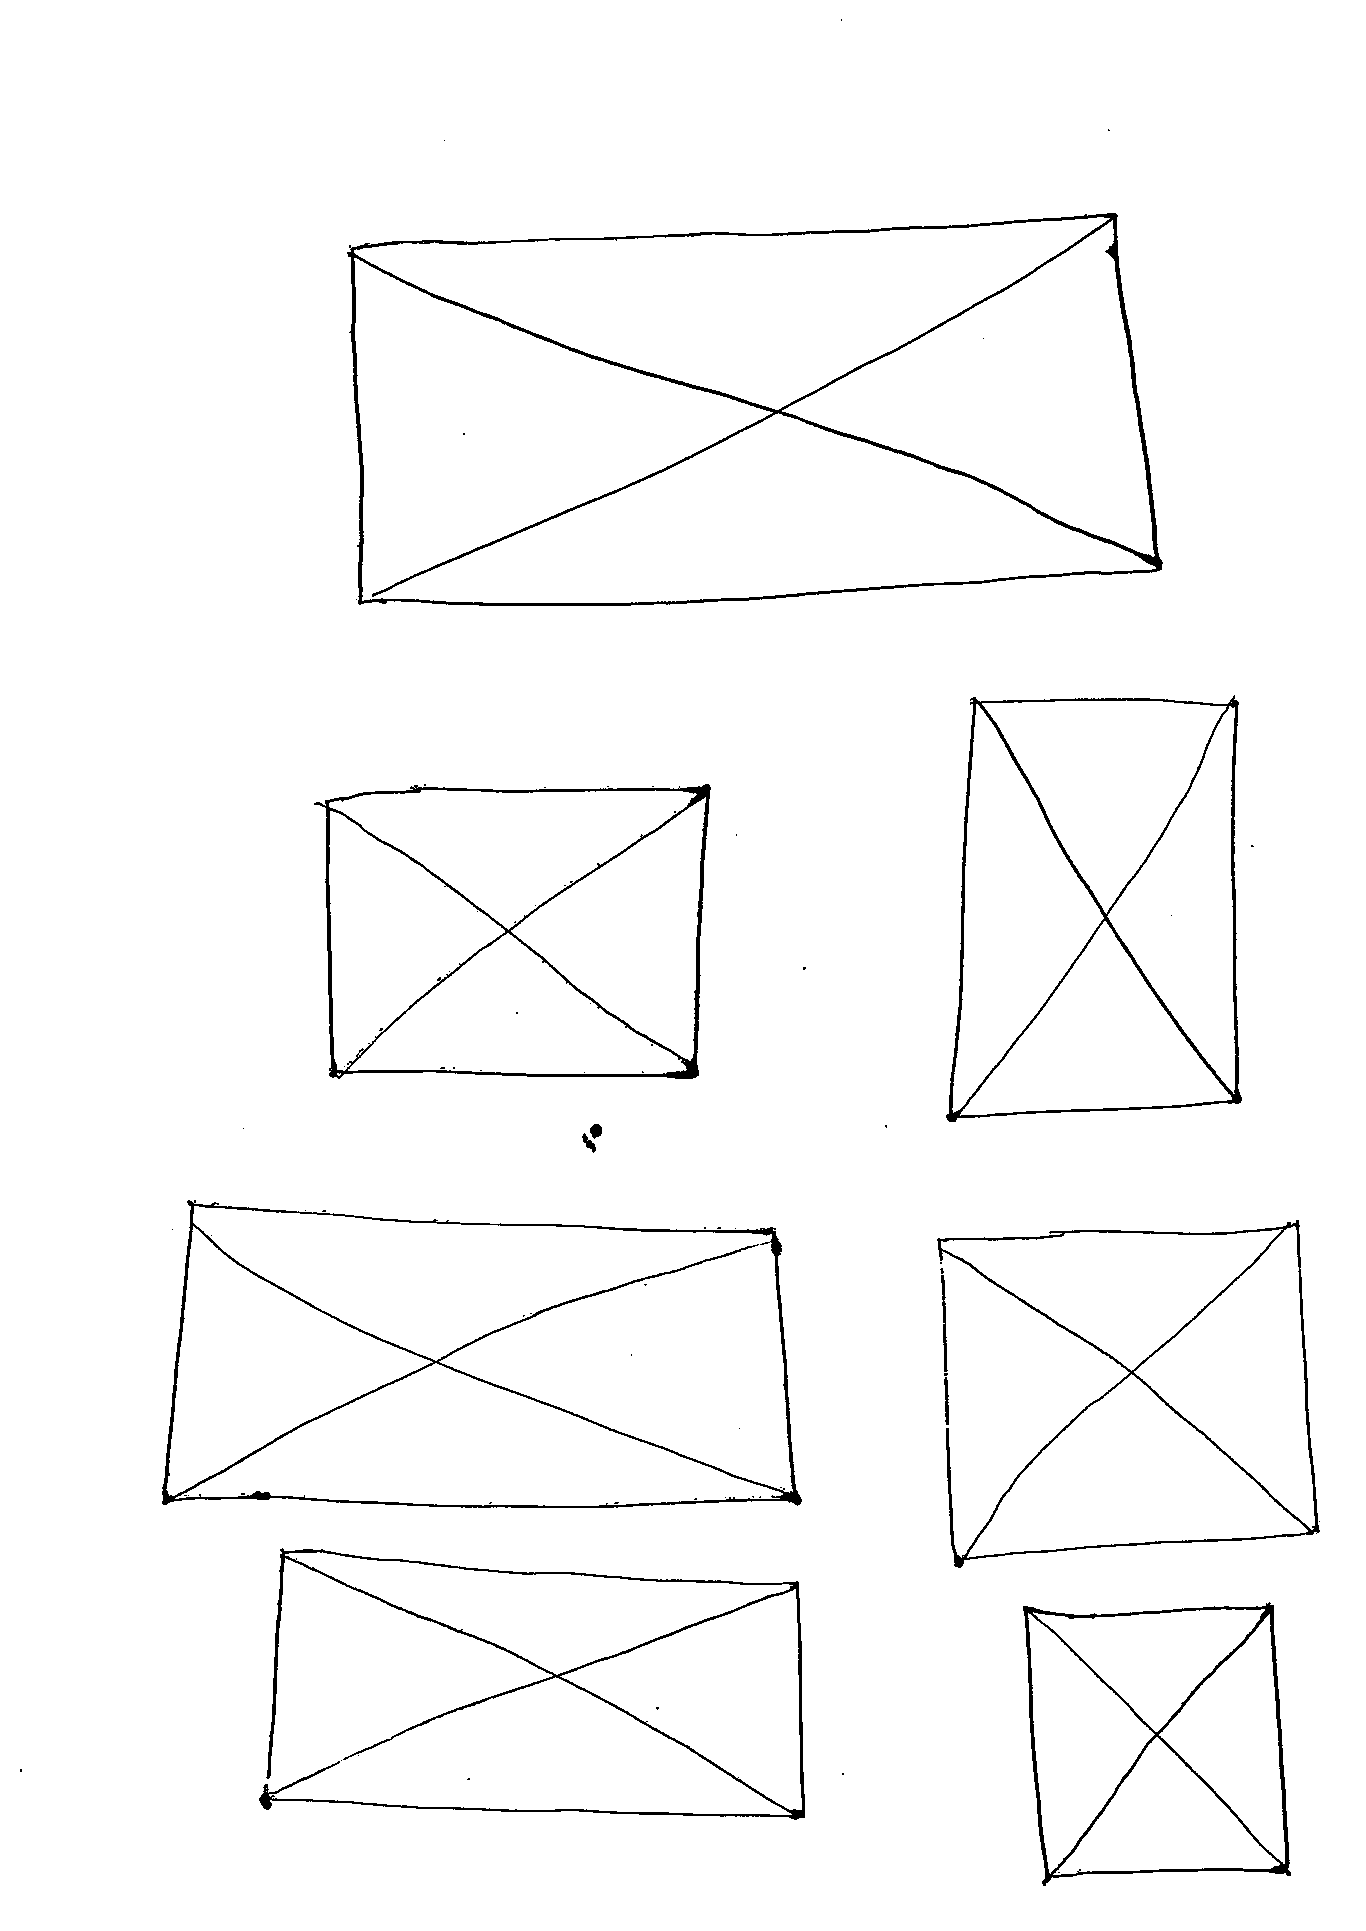Image: (347, 208, 1168, 612), (151, 1204, 806, 1513), (256, 1541, 815, 1823), (939, 688, 1248, 1127), (939, 1220, 1319, 1576), (318, 776, 721, 1085), (1019, 1603, 1295, 1885)
